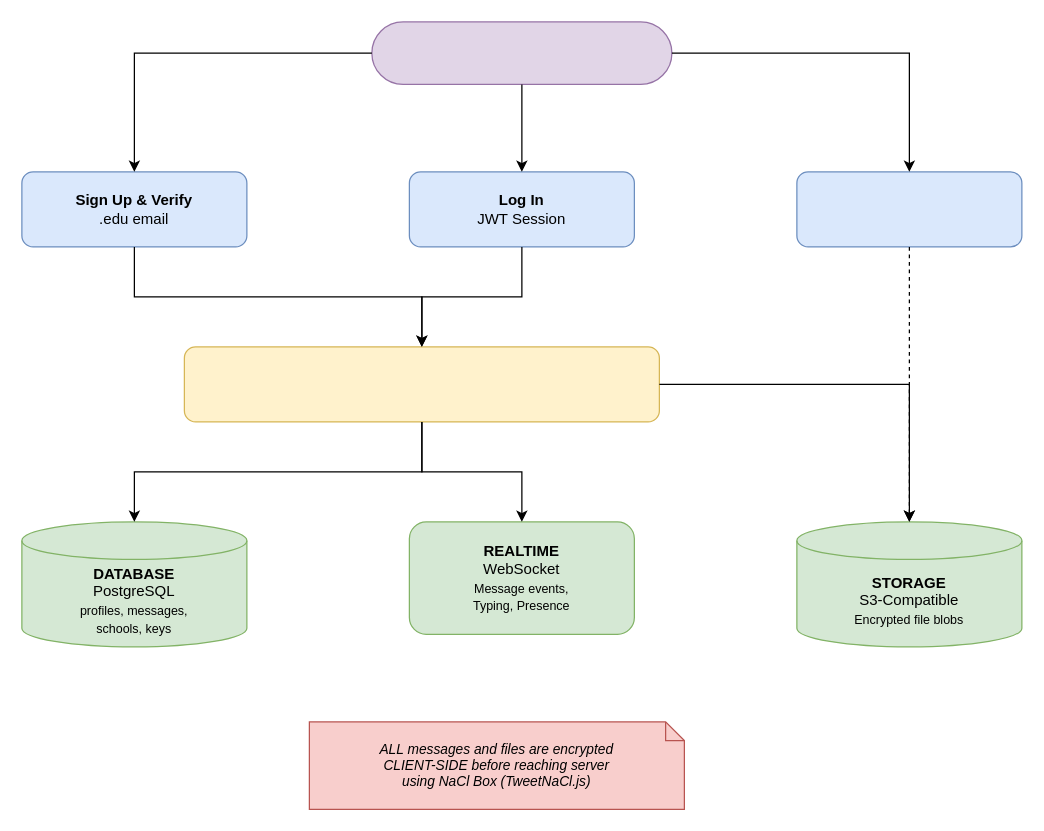
Image size: 1044x831. Some labels were removed from this diagram. Here are the shapes that lost their labels. From the top down, the box of each, then its label:
(371, 21, 672, 84): STUDENT USER (Browser / Mobile Web)
(796, 171, 1022, 247): Use App Messages, Files, Groups
(183, 346, 659, 422): SUPABASE AUTH (GoTrue) Email/Password • JWT Tokens • Email Verification
